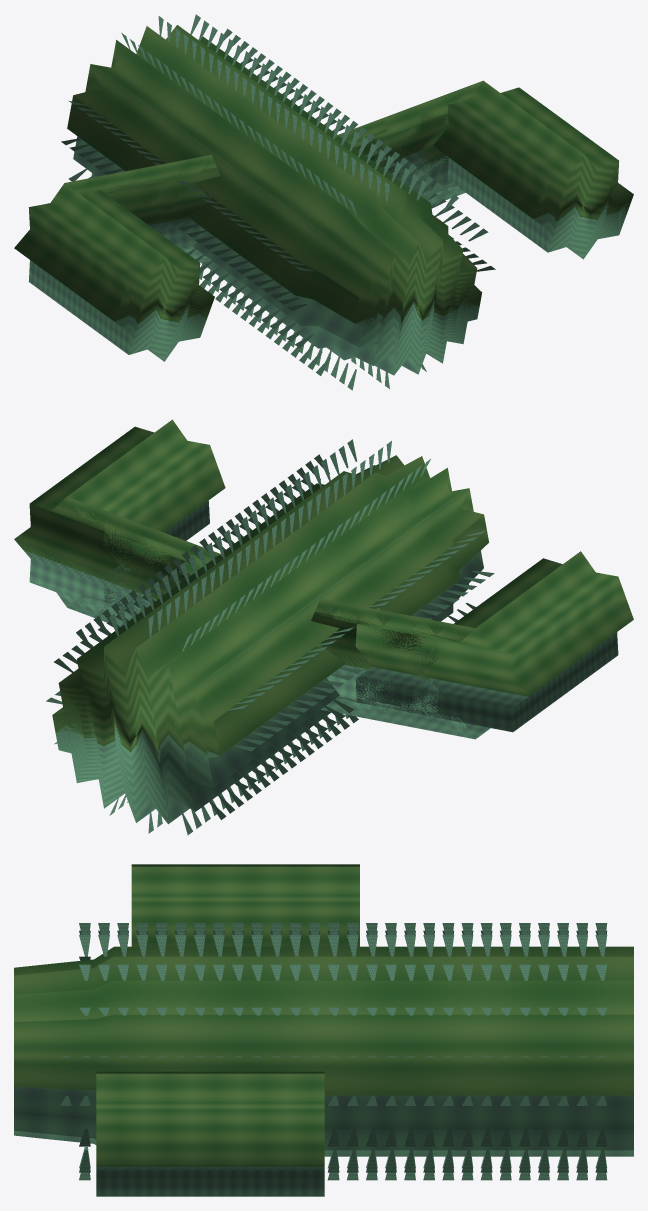
Rendered from veg_succulent_agave_01.obj.
The picture shows the model from 3 angles, top to bottom: view 1: azimuth 30°, elevation 25°; view 2: azimuth 150°, elevation 25°; view 3: azimuth 270°, elevation 25°; orthographic projection. The views are drawn at different scales.
Visible parts, largest first — view 1: veg_succulent_agave_01; view 2: veg_succulent_agave_01; view 3: veg_succulent_agave_01.
Part boxes in pixels (<box>): veg_succulent_agave_01: <box>14,14,633,390</box>; veg_succulent_agave_01: <box>14,419,633,835</box>; veg_succulent_agave_01: <box>14,864,633,1196</box>.
Size of the model in its own units: 2.36 by 0.9137 by 2.2.
Materials: 1 (1 with a texture image).
